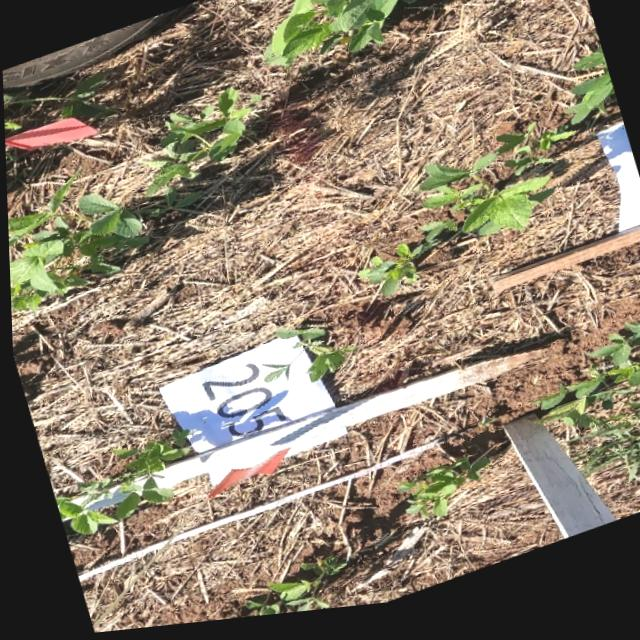grassy_weed: (567, 400, 640, 493)
soy_plant: (357, 59, 613, 303), (6, 184, 138, 308), (262, 0, 418, 72), (531, 334, 640, 437), (145, 93, 248, 196), (50, 479, 168, 536), (233, 563, 340, 623), (394, 467, 485, 525), (272, 333, 351, 388), (114, 445, 170, 478), (261, 370, 286, 387)
